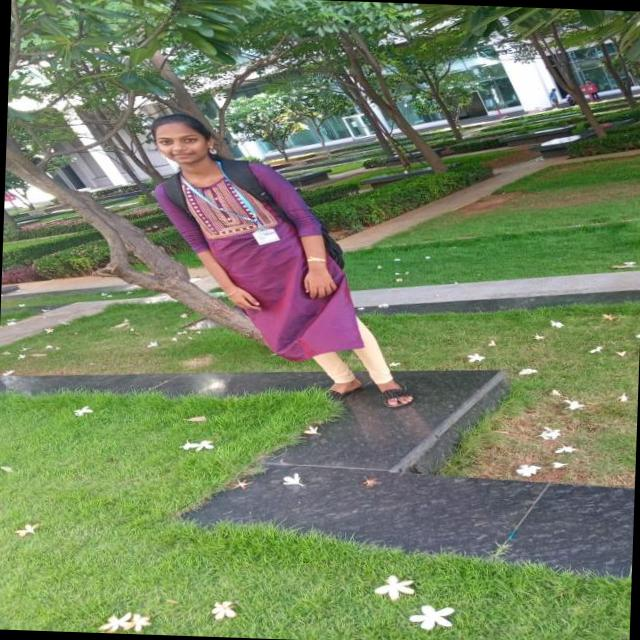id_card: (184, 164, 284, 250)
